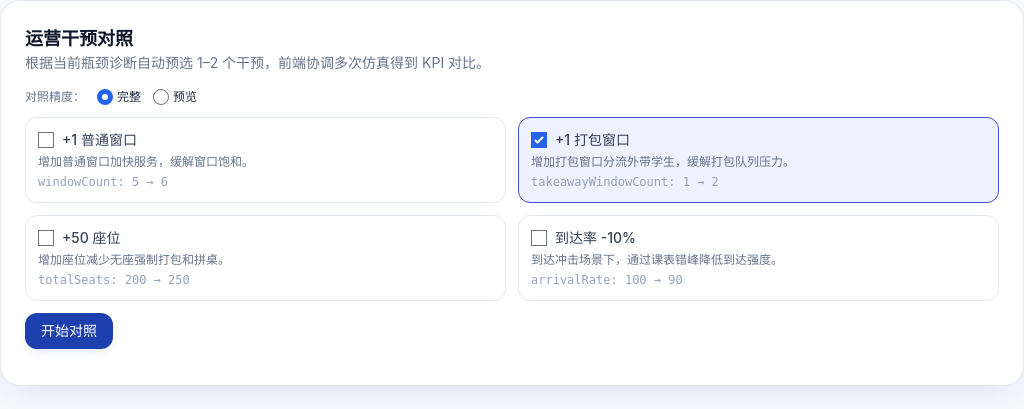
Test: InterventionPanel › 勾选 >2 时 FIFO 取消最早勾选的那个
What coordinates should you click on to do the following:
click the checkbox labelled "+50 座位 增加座位减少无座强制打包和拼桌。 totalSeats: 200 → 250"
I would click on:
 (46, 238)
Its box is [38,230,54,246].
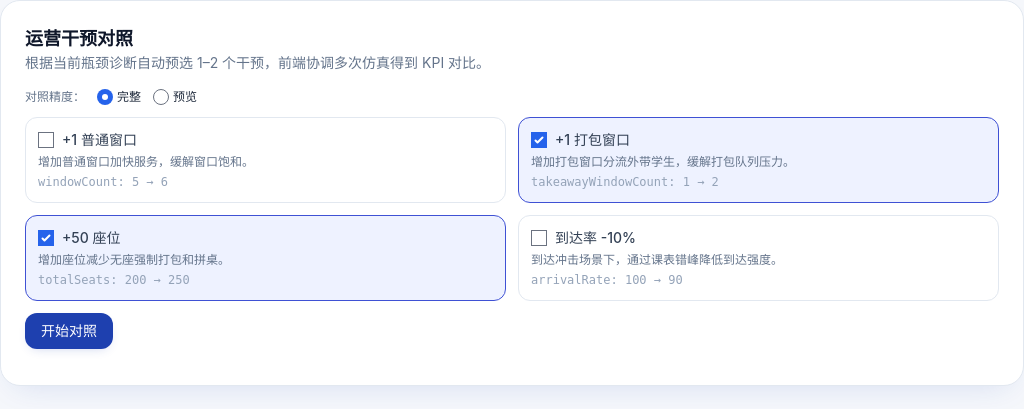
expect the checkbox labelled "+50 座位 增加座位减少无座强制打包和拼桌。 totalSeats: 200 → 250" is checked: met, box [38,230,54,246]
What coordinates should you click on to do the following:
click the checkbox labelled "+1 普通窗口 增加普通窗口加快服务，缓解窗口饱和。 windowCount: 5 → 6"
I would click on:
 (46, 140)
Its box is [38,132,54,148].
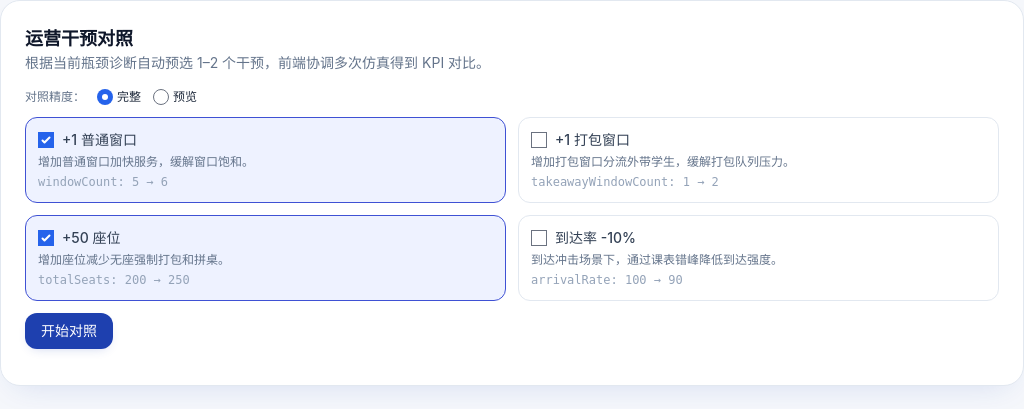
expect the checkbox labelled "+50 座位 增加座位减少无座强制打包和拼桌。 totalSeats: 200 → 250" is checked: met, box [38,230,54,246]
expect the checkbox labelled "+1 普通窗口 增加普通窗口加快服务，缓解窗口饱和。 windowCount: 5 → 6" is checked: met, box [38,132,54,148]
expect the checkbox labelled "+1 打包窗口 增加打包窗口分流外带学生，缓解打包队列压力。 takeawayWindowCount: 1 → 2" is not checked: met, box [531,132,547,148]
